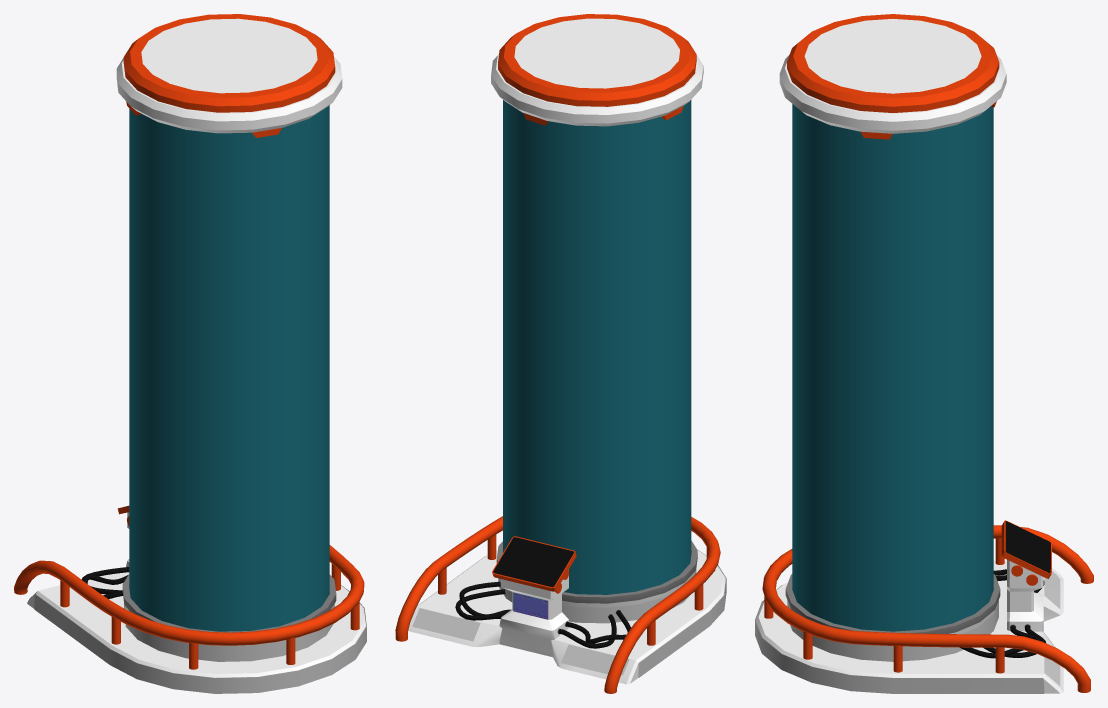
File: S_assete_tank_parti_2.fbx
3 views of the same model, side by side, from view 1: azimuth 30°, elevation 25°; view 2: azimuth 150°, elevation 25°; view 3: azimuth 270°, elevation 25° (orthographic). The views are drawn at different scales.
Visible parts, largest first — view 1: socle; view 2: socle; view 3: socle.
Boxes of the visible parts, x1=… form: socle: x1=14, y1=14, x2=366, y2=693; socle: x1=395, y1=14, x2=726, y2=693; socle: x1=755, y1=14, x2=1093, y2=693.
Size of the model in its own units: 262 by 607 by 322.
